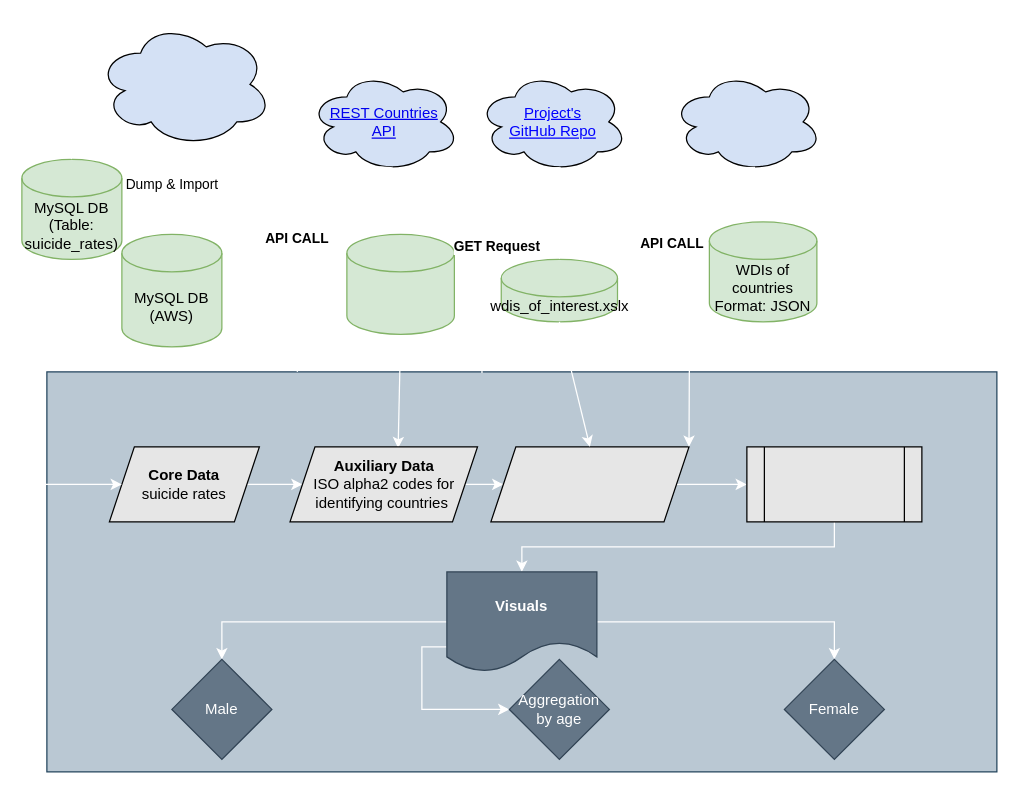
Some shapes in this 1019 by 794 pixel diagram are drawn without their labels. The shapes that lost their labels are listed below. From the top down, each one's box as (x1, y1, x2, y2) in pixels, then its label:
(96, 21, 272, 147): Core Suicide Data Source: Kaggle Format: csv
(671, 71, 822, 172): World Bank API
(346, 233, 454, 334): ISO Alpha2 codes Format: JSON
(490, 446, 689, 522): Socioeconomic Data to analyze suicides
(746, 446, 922, 522): Transformations (grouping, filtering etc.)
(46, 371, 997, 772): KNIME
